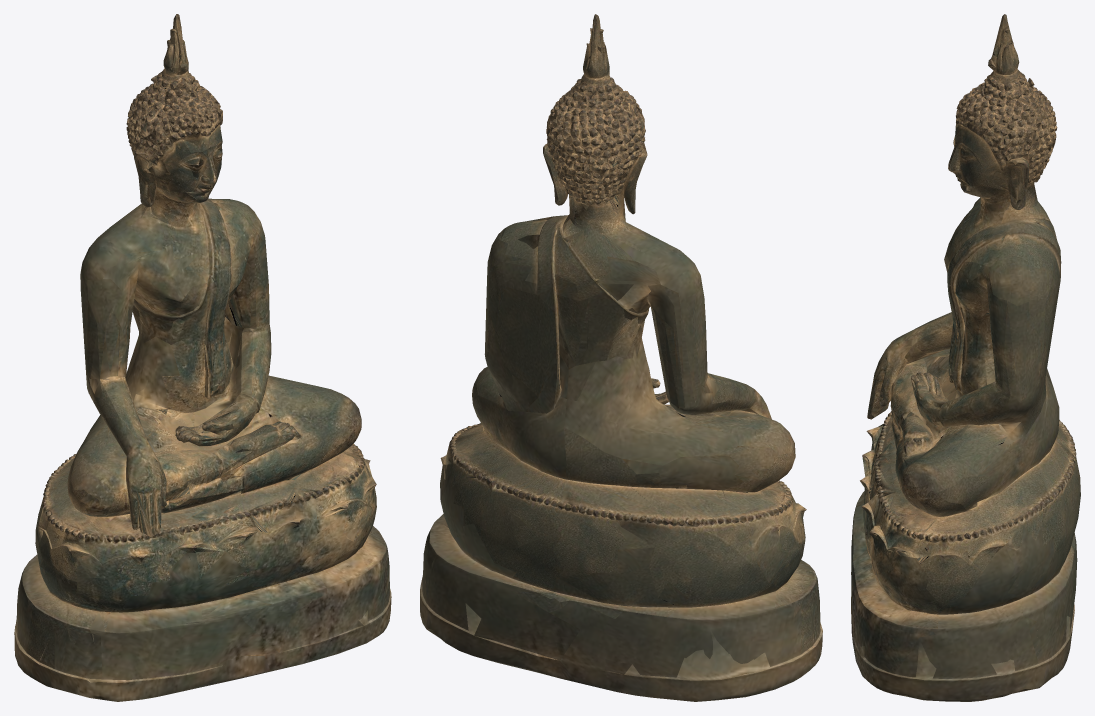
The model's file is e4bucha.glb.
3 views of the same model, side by side, from view 1: azimuth 30°, elevation 25°; view 2: azimuth 150°, elevation 25°; view 3: azimuth 270°, elevation 25° (orthographic). The views are drawn at different scales.
Visible parts, largest first — view 1: e4bucha_near, e4bucha_far; view 2: e4bucha_near, e4bucha_far; view 3: e4bucha_near, e4bucha_far.
Part boxes in pixels (bbox=[...]): e4bucha_near: bbox=[14, 14, 391, 701]; e4bucha_far: bbox=[14, 19, 376, 699]; e4bucha_near: bbox=[420, 14, 822, 701]; e4bucha_far: bbox=[421, 22, 820, 698]; e4bucha_near: bbox=[851, 14, 1080, 701]; e4bucha_far: bbox=[856, 22, 1075, 693].
Size of the model in its own units: 0.181 by 0.3 by 0.1033.
1 material, 1 textured.
